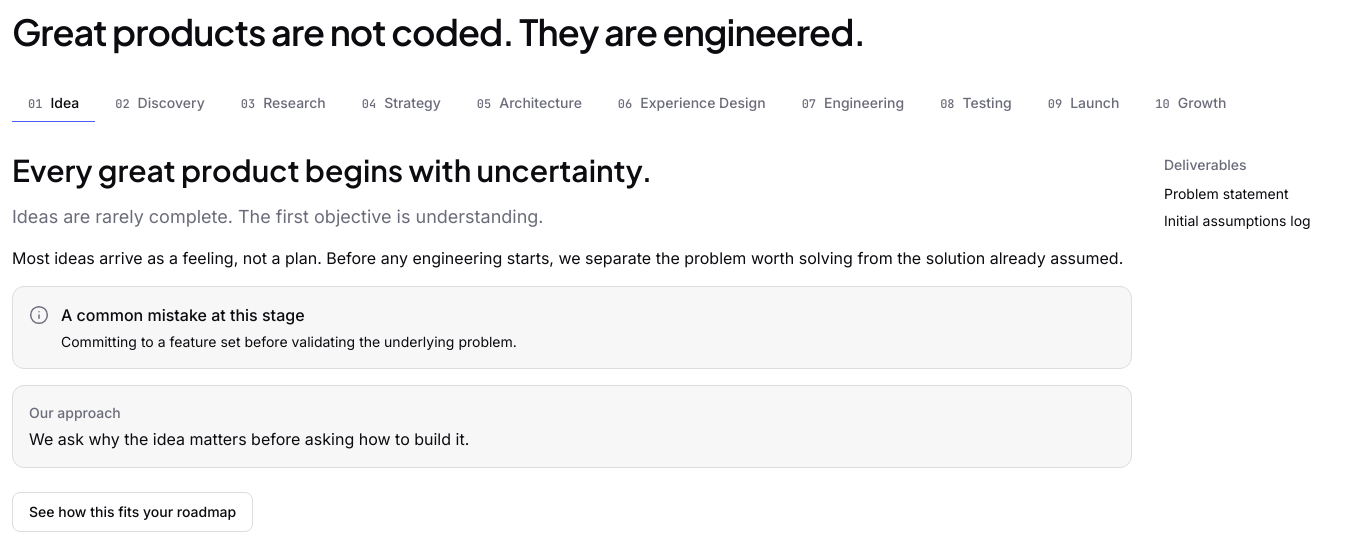
Test: ProductThinkingTimeline › switches to another stage's panel on click and tracks it
This screenshot has width=1372, height=549.
Click the tab "05Architecture" at [529, 103], box [461, 84, 598, 123]
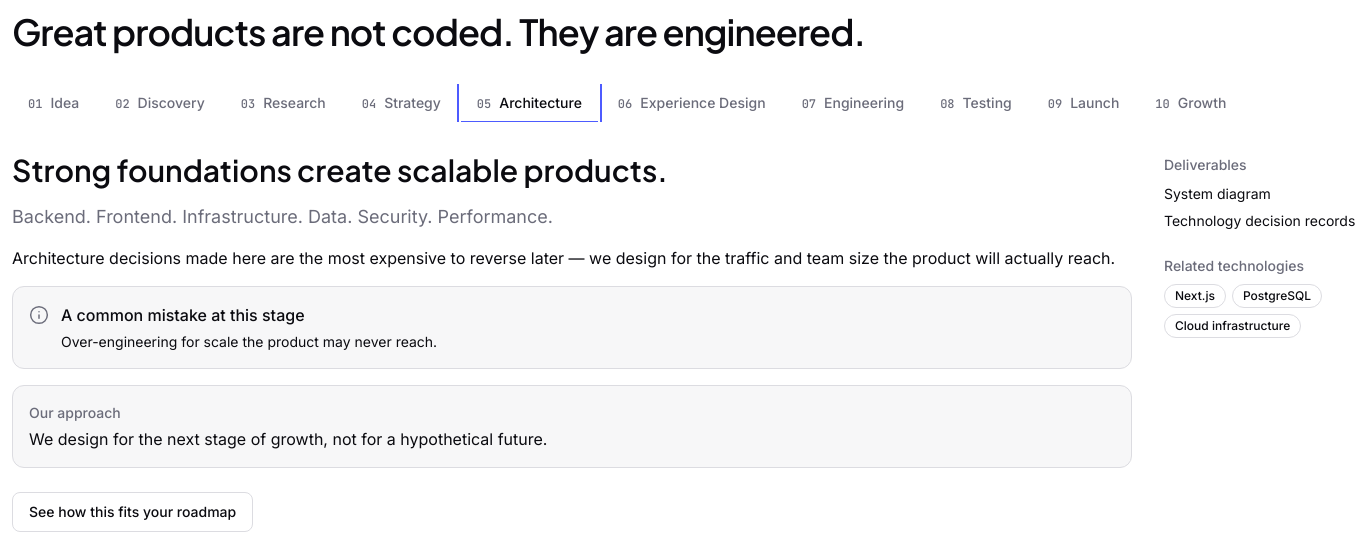
Now the heading "Strong foundations create scalable products." is shown, box [12, 151, 668, 189]
